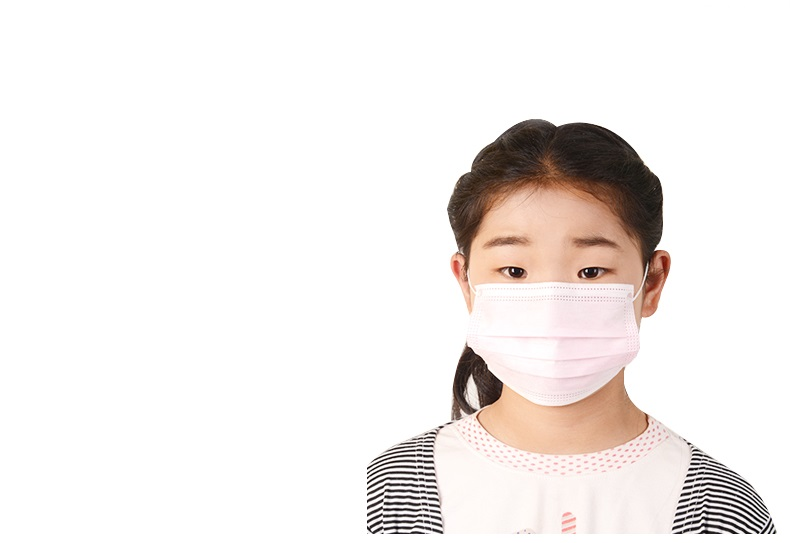face_mask: (471, 184, 647, 401)
